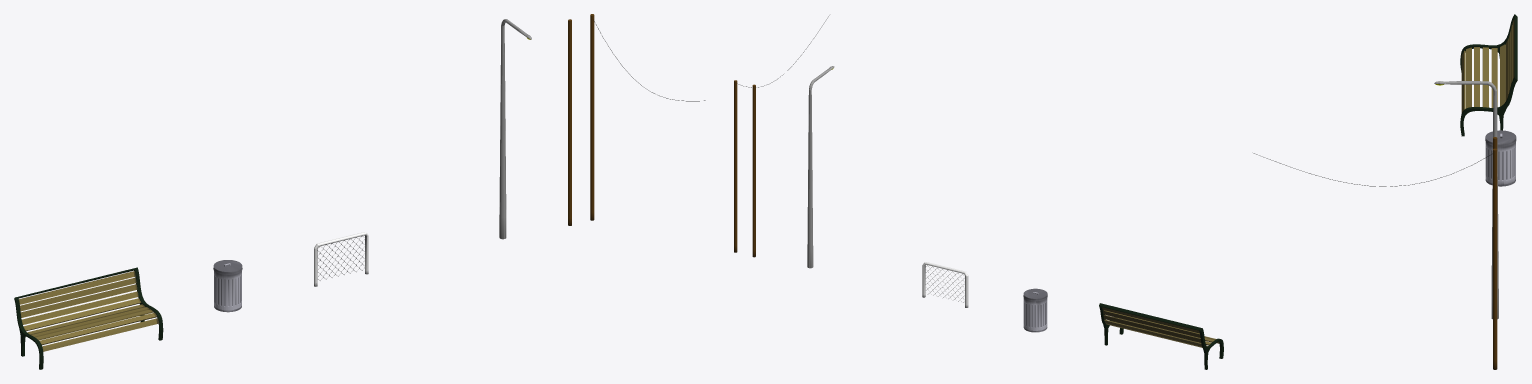
Rendered from props.fbx.
3 views of the same model, side by side, from view 1: azimuth 30°, elevation 25°; view 2: azimuth 150°, elevation 25°; view 3: azimuth 270°, elevation 25° (orthographic). The views are drawn at different scales.
Visible parts, largest first — view 1: BezierCurve.001, Cylinder, BezierCurve.000, Cylinder.001, Cylinder.003, Cylinder.002; view 2: BezierCurve.001, BezierCurve.000, Cylinder, Cylinder.003, Cylinder.001, Cylinder.002; view 3: BezierCurve.001, BezierCurve.000, Cylinder.001, Cylinder.
Boxes of the visible parts, box(x1,y1,x2,y2) form: BezierCurve.001: box(14, 267, 163, 369); Cylinder: box(499, 19, 531, 239); BezierCurve.000: box(213, 260, 242, 312); Cylinder.001: box(590, 14, 705, 220); Cylinder.003: box(314, 232, 368, 286); Cylinder.002: box(568, 19, 571, 225); BezierCurve.001: box(1099, 303, 1223, 369); BezierCurve.000: box(1023, 288, 1047, 332); Cylinder: box(807, 66, 834, 268); Cylinder.003: box(922, 262, 968, 307); Cylinder.001: box(734, 15, 829, 252); Cylinder.002: box(752, 84, 755, 257); BezierCurve.001: box(1460, 14, 1517, 136); BezierCurve.000: box(1485, 130, 1516, 186); Cylinder.001: box(1253, 148, 1497, 369); Cylinder: box(1434, 81, 1498, 319).
Size of the model in its own units: 582 by 220 by 219.
